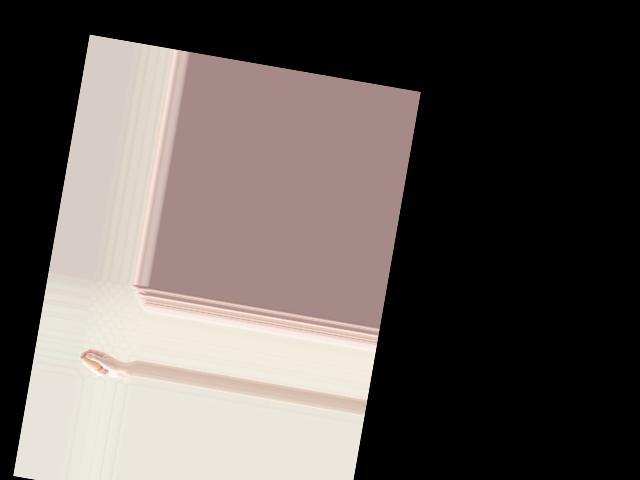egg: (81, 353, 103, 371)
